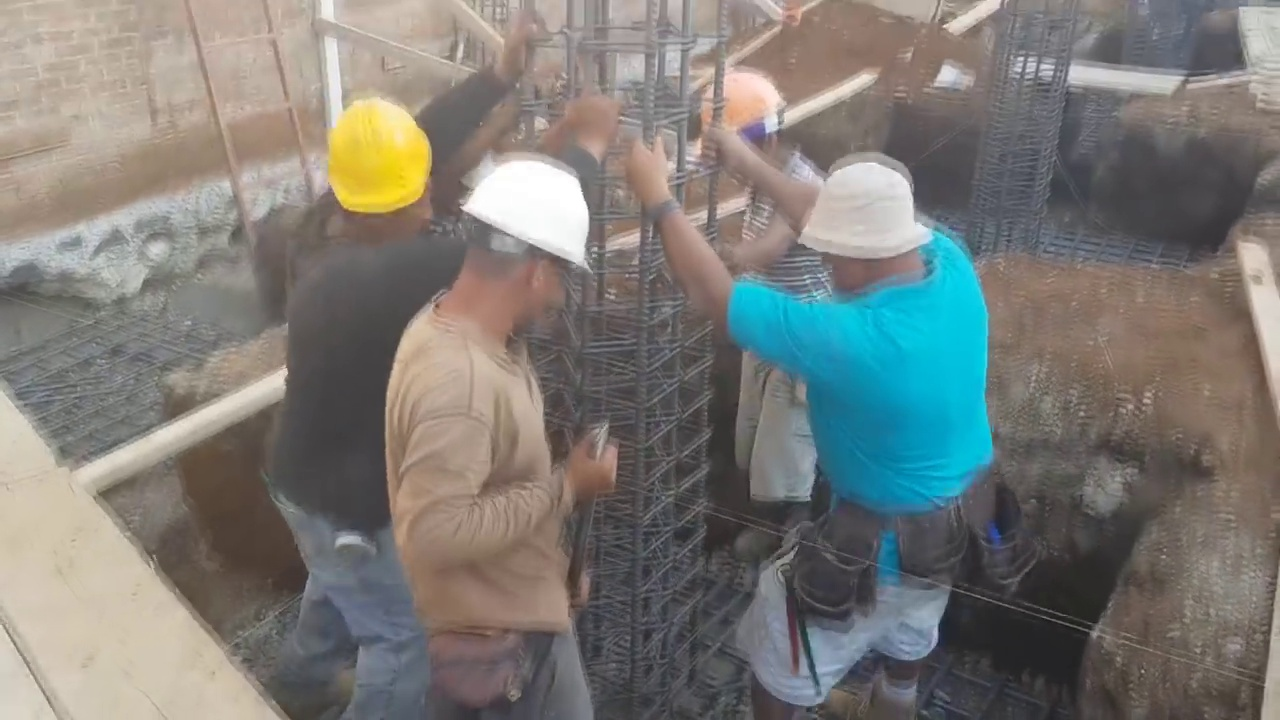helmet: (459, 151, 591, 270), (317, 83, 428, 214), (695, 67, 784, 135)
helmet-off: (799, 152, 940, 305)
helmet-on: (432, 147, 596, 335), (314, 88, 437, 254), (693, 60, 800, 206)
person: (630, 124, 1024, 720), (360, 141, 620, 720), (241, 82, 442, 720), (692, 55, 822, 560)
